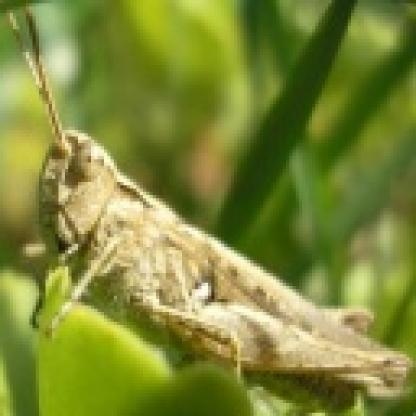grasshopper: (29, 119, 413, 403)
